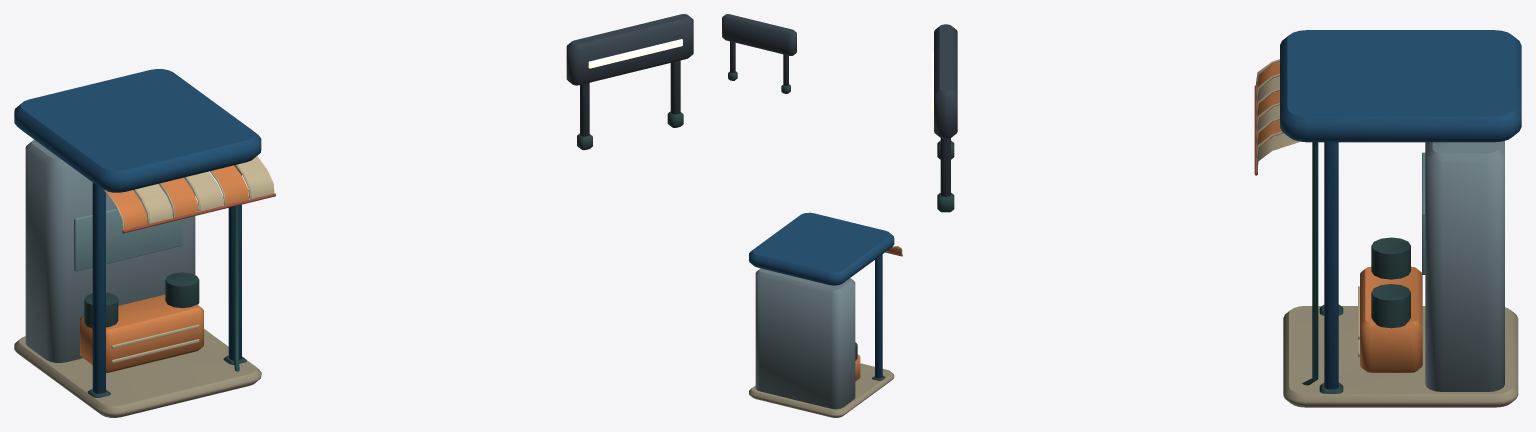
Rendered from metro_dealership_4.glb.
3 renders of one model, left to right at view 1: azimuth 30°, elevation 25°; view 2: azimuth 150°, elevation 25°; view 3: azimuth 270°, elevation 25°, orthographic. The views are drawn at different scales.
Visible parts, largest first — view 1: Dealership4; view 2: Dealership4; view 3: Dealership4.
Part boxes in pixels (x1=…): Dealership4: x1=14, y1=14, x2=693, y2=417; Dealership4: x1=722, y1=14, x2=902, y2=417; Dealership4: x1=931, y1=24, x2=1521, y2=407.
Bounding box in the file's own units: 6.33 × 5.56 × 6.23.
